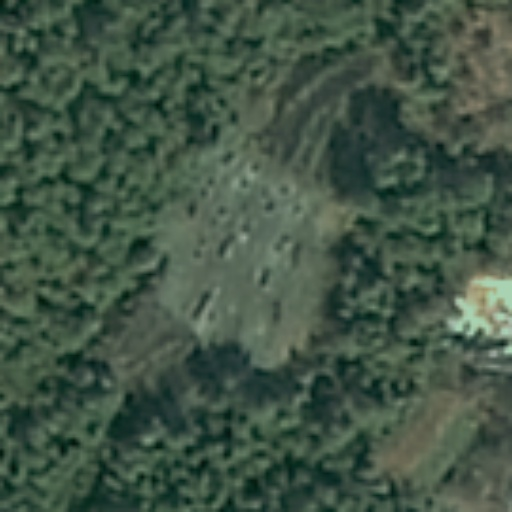landslide: (135, 146, 354, 368)
